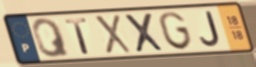G: (158, 10, 195, 52)
J: (199, 10, 223, 49)
Q: (31, 17, 73, 59)
T: (63, 16, 93, 56)
X: (122, 11, 167, 54), (92, 13, 134, 55)
